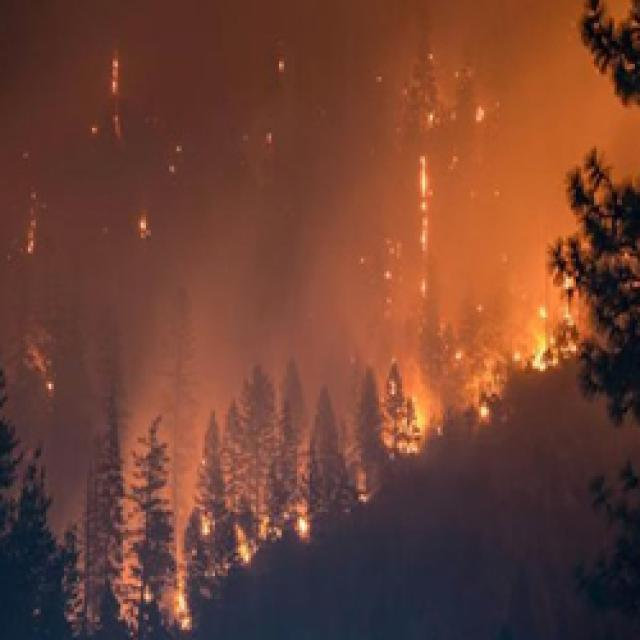Fire: (394, 9, 486, 290), (500, 224, 624, 418), (156, 488, 370, 596), (370, 358, 523, 462)
Smoke: (0, 0, 414, 468), (183, 0, 639, 182)
